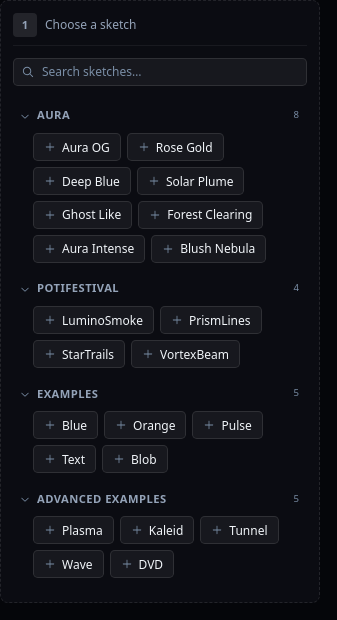
Test: SlotColumn › search functionality › shows no results message when no matches
This screenshot has width=337, height=620.
Type "nonexistentsketch" into the field with placeholder "Search sketches…".
click(160, 72); type("nonexistentsketch")  # box top-left (13, 58), bottom-right (307, 86)
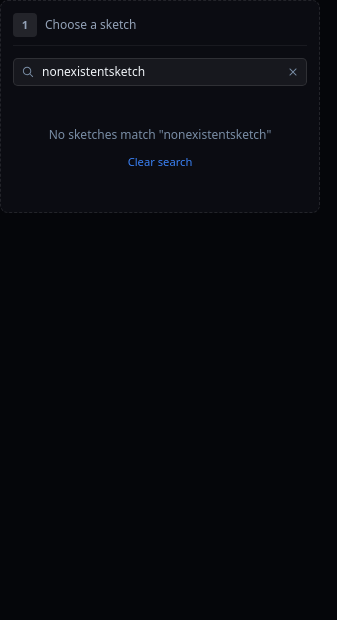
Now the text "No sketches match \"nonexistentsketch\"" is shown, box top-left (49, 126), bottom-right (271, 144)
